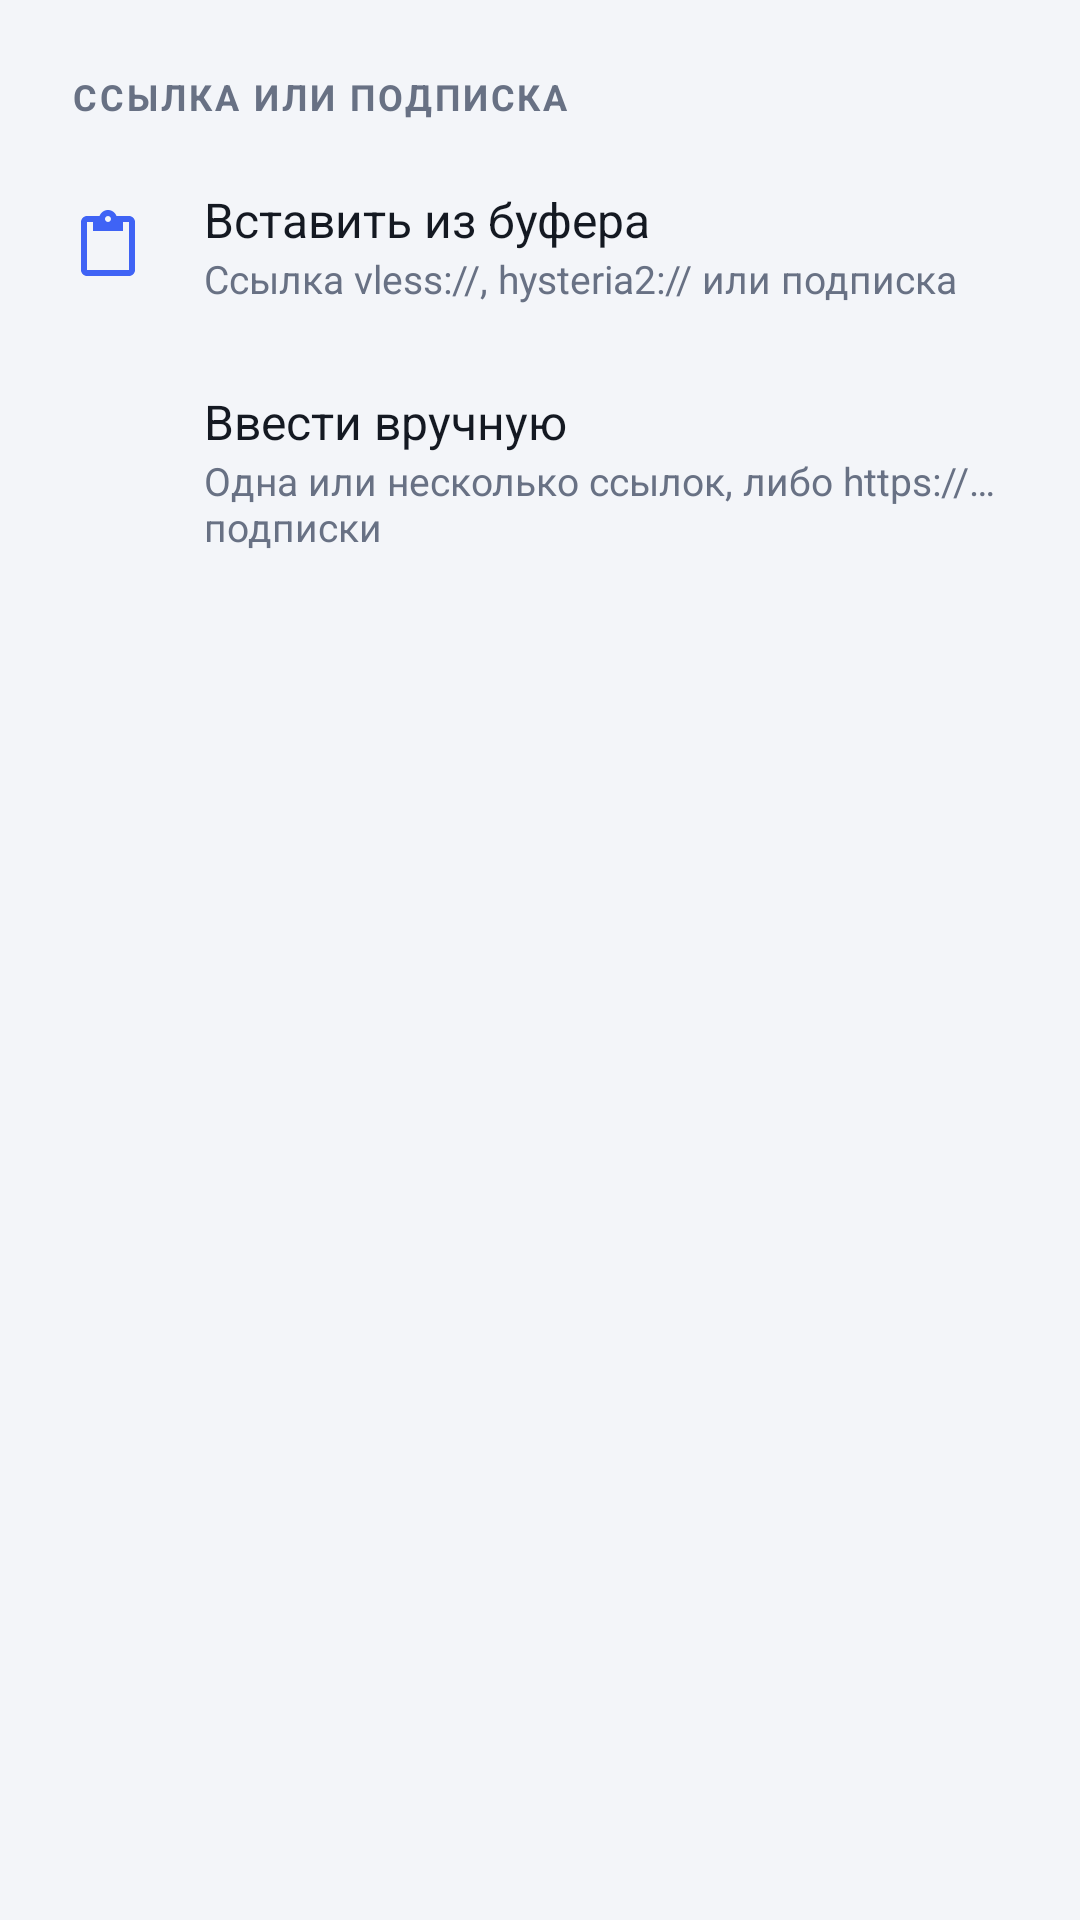

Screen size 1080px x 1920px. Icon name, then its center in pixels as [x,y]:
paste: [108,243]
